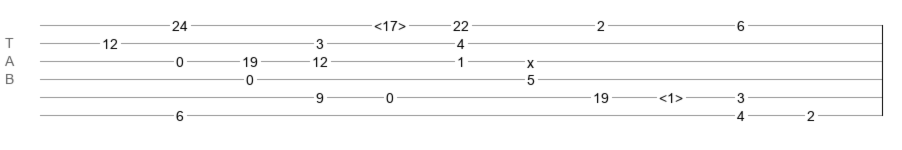0: (176, 54, 184, 64), (246, 72, 254, 82), (386, 90, 394, 100)
1: (457, 54, 465, 64)
12: (102, 36, 118, 46), (312, 54, 328, 64)
19: (242, 54, 258, 64), (593, 90, 609, 100)
2: (597, 18, 605, 28), (807, 108, 815, 118)
22: (453, 18, 469, 28)
24: (172, 18, 188, 28)
3: (316, 36, 324, 46), (737, 90, 745, 100)
4: (457, 36, 465, 46), (737, 108, 745, 118)
5: (527, 72, 535, 82)
6: (176, 108, 184, 118), (737, 18, 745, 28)
9: (316, 90, 324, 100)
harmonic: (374, 18, 406, 28), (659, 90, 683, 100)
x: (527, 55, 534, 63)
